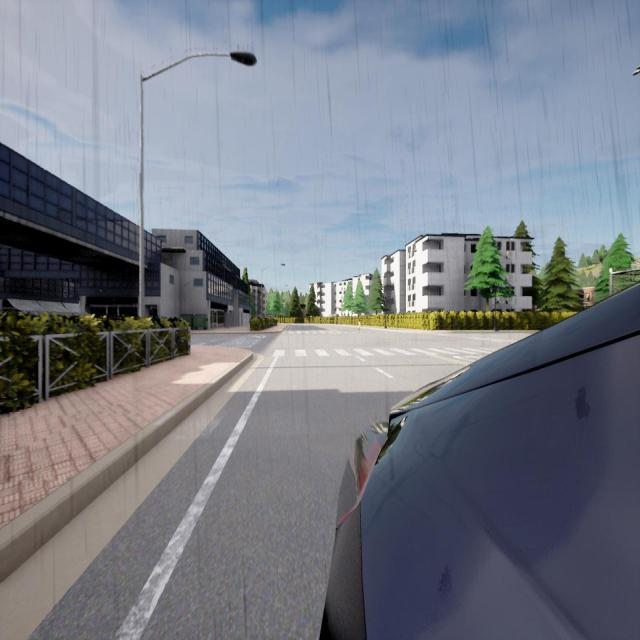Pedestrian: (358, 320, 360, 332)
Vehicle: (322, 286, 640, 640)
